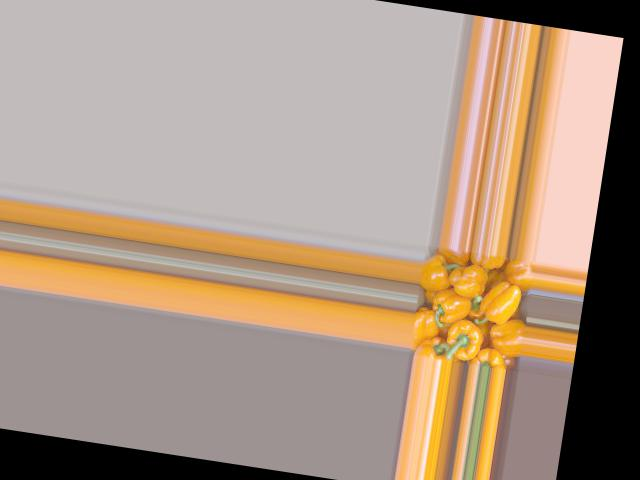bell_pepper: (432, 245, 478, 276)
